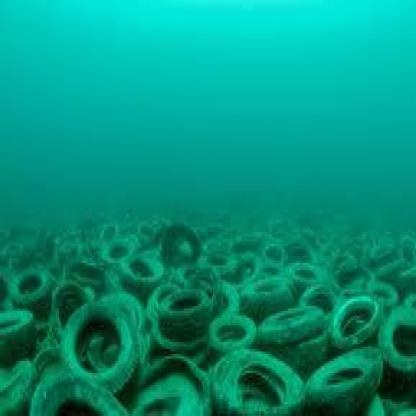tire: (212, 337, 306, 416), (68, 294, 140, 387), (302, 347, 387, 408), (151, 285, 213, 356), (338, 287, 392, 356), (7, 268, 58, 318), (384, 316, 416, 387)
